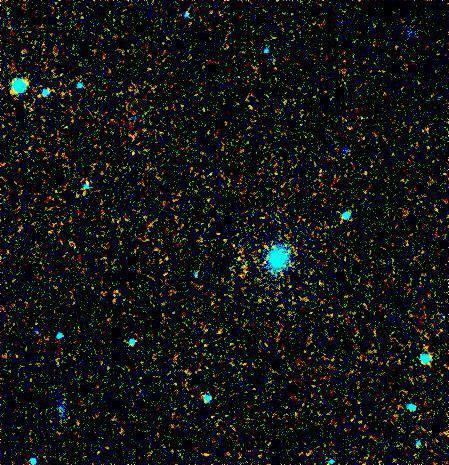star: (223, 244, 253, 274)
